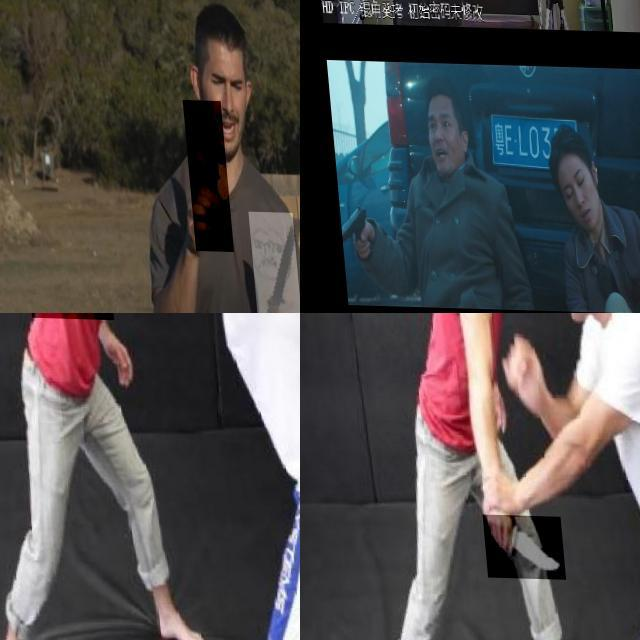-: (180, 98, 229, 250), (243, 209, 298, 313), (474, 513, 558, 578), (21, 313, 109, 354)
gun-knife-thesis - v11 Yolov5 augmented: (330, 200, 364, 257), (398, 0, 435, 22)
